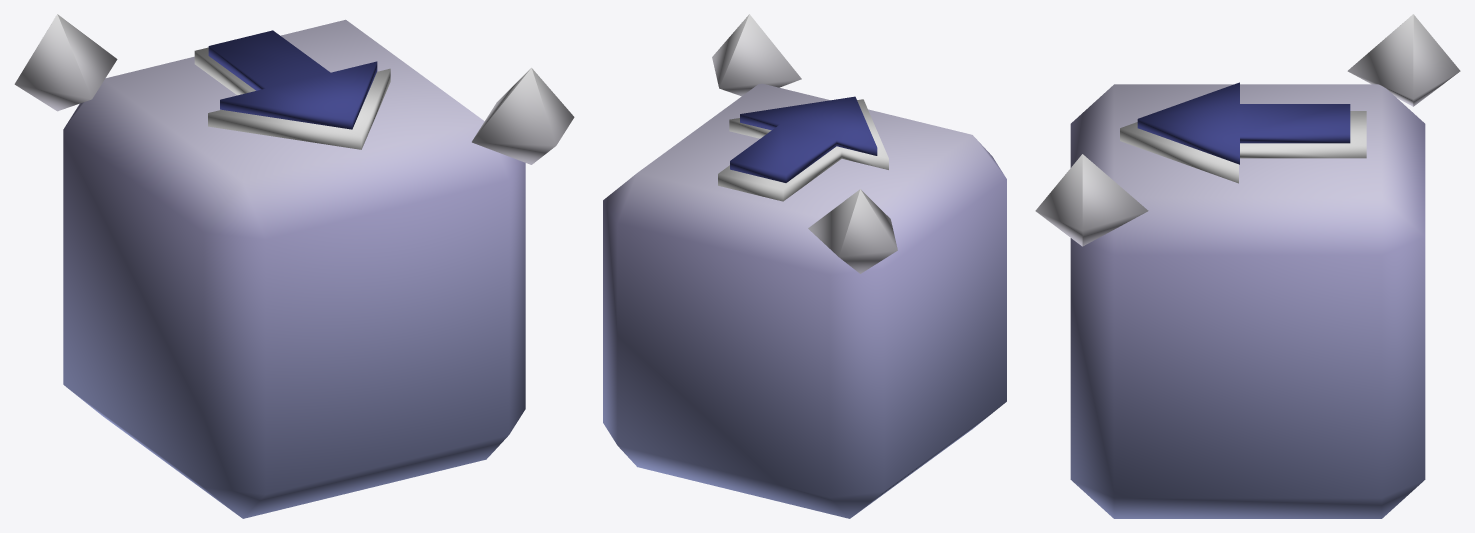
The model's file is hava_lod2.glb.
The picture shows the model from 3 angles, left to right: view 1: azimuth 30°, elevation 25°; view 2: azimuth 150°, elevation 25°; view 3: azimuth 270°, elevation 25°; orthographic projection. The views are drawn at different scales.
Visible parts, largest first — view 1: hava_lod2; view 2: hava_lod2; view 3: hava_lod2.
Boxes of the visible parts, box(x1,y1,x2,y2) form: hava_lod2: box(14, 14, 574, 518); hava_lod2: box(603, 14, 1006, 518); hava_lod2: box(1035, 14, 1460, 518).
Size of the model in its own units: 1.08 by 1.06 by 1.08.
